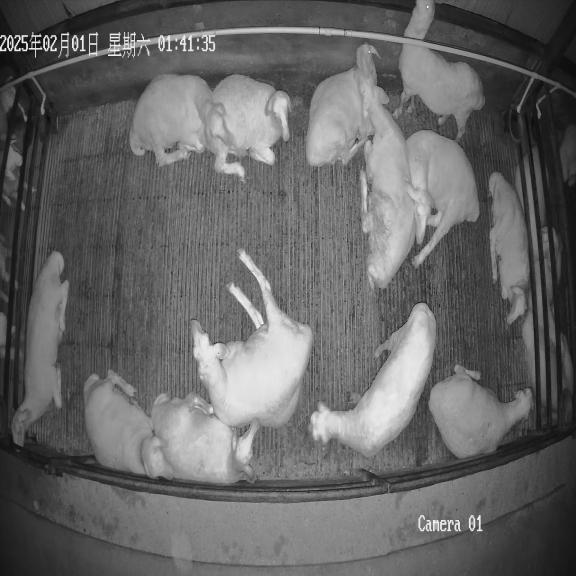lying: (191, 250, 313, 440), (361, 79, 416, 289), (11, 251, 69, 446), (406, 130, 479, 267), (150, 393, 259, 484), (429, 364, 533, 459), (84, 370, 173, 479), (129, 74, 232, 166), (306, 43, 377, 167), (212, 74, 291, 181), (488, 172, 529, 324)
stand: (309, 303, 436, 457), (396, 43, 484, 142), (404, 0, 434, 41)
